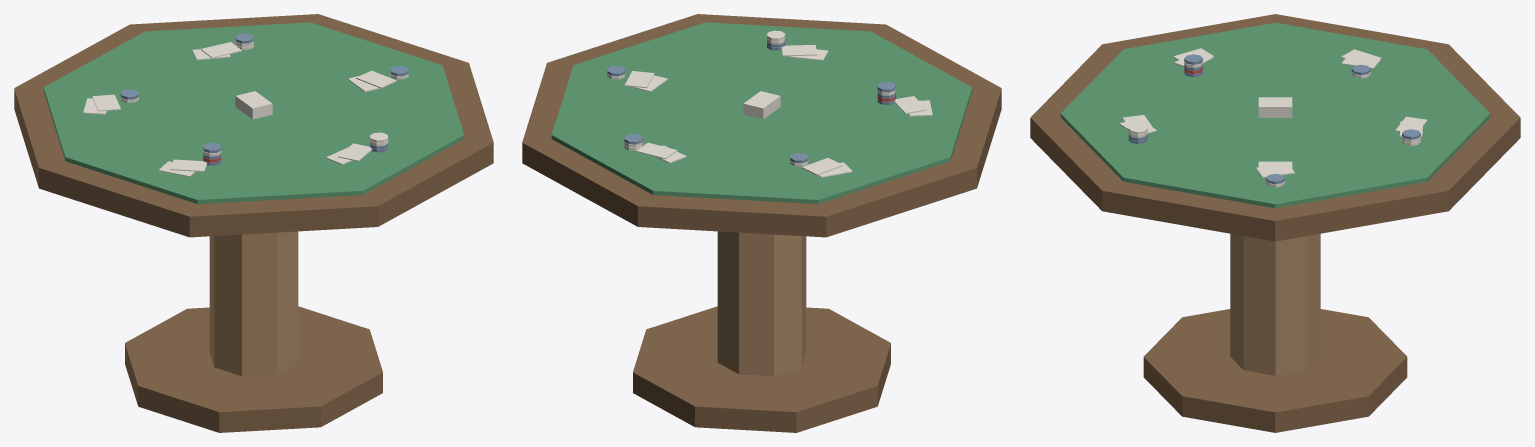
Rendered from SM_Poker_Table.glb.
3 renders of one model, left to right at view 1: azimuth 30°, elevation 25°; view 2: azimuth 150°, elevation 25°; view 3: azimuth 270°, elevation 25°, orthographic.
Parts seen in each view (by area): view 1: SM_Poker_Table; view 2: SM_Poker_Table; view 3: SM_Poker_Table.
Boxes of the visible parts, x1,y1,x2,y2 form: SM_Poker_Table: (14,14,493,432); SM_Poker_Table: (522,14,1001,432); SM_Poker_Table: (1030,14,1520,432).
Size of the model in its own units: 1.3 by 0.816 by 1.3.
